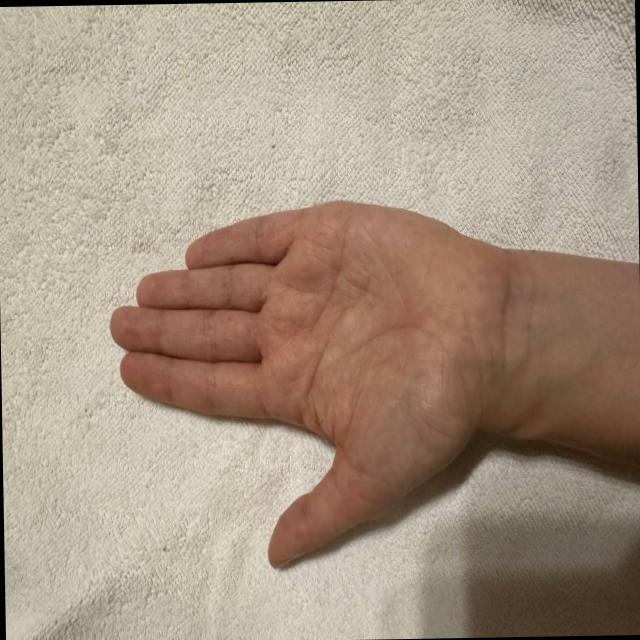v: (106, 192, 528, 570)
